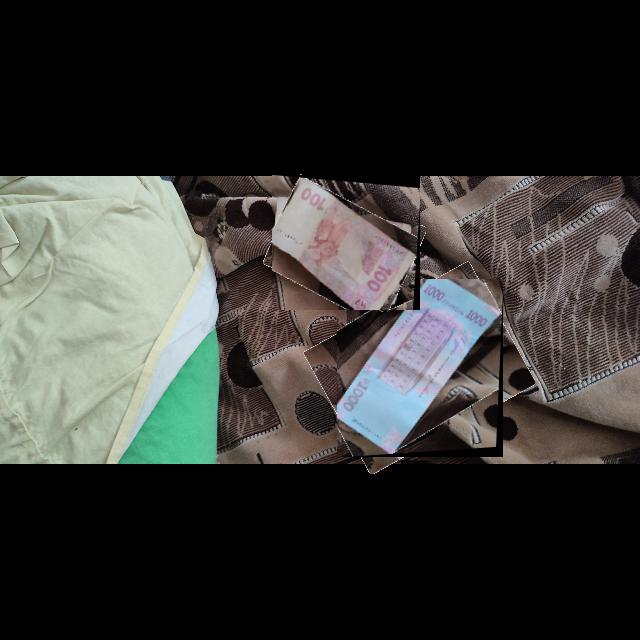1000uah: (337, 279, 503, 455)
100uah: (272, 178, 417, 311)
